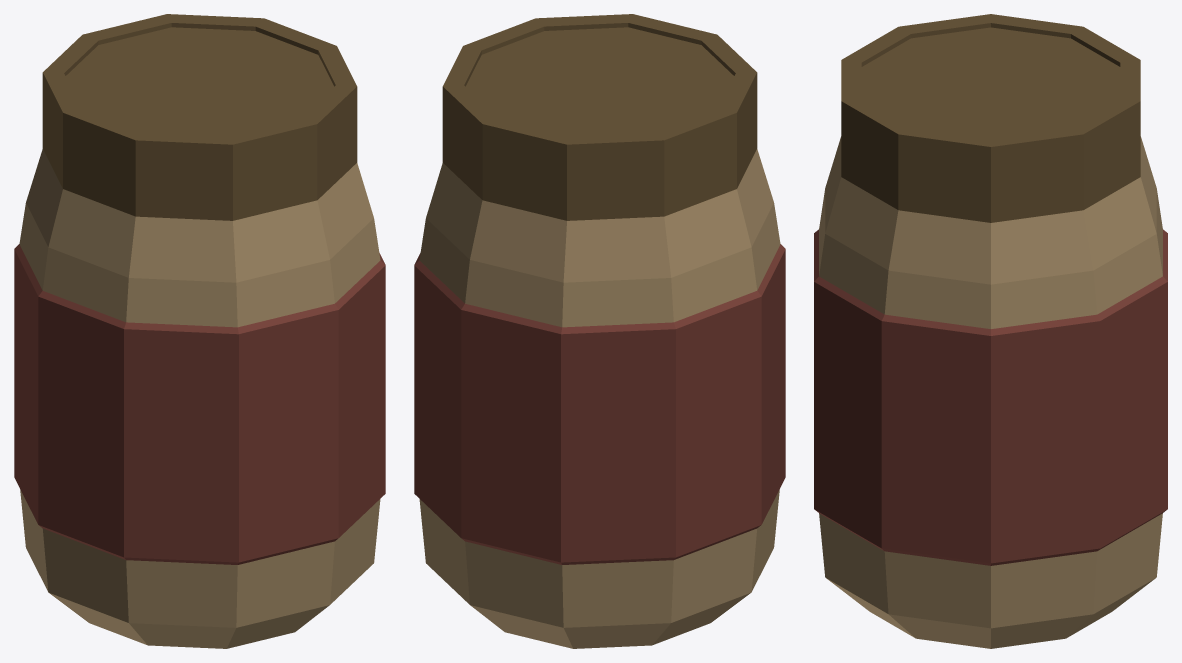
File: PeanutButter.glb
3 renders of one model, left to right at view 1: azimuth 30°, elevation 25°; view 2: azimuth 150°, elevation 25°; view 3: azimuth 270°, elevation 25°, orthographic.
Visible parts, largest first — view 1: PeanutButter; view 2: PeanutButter; view 3: PeanutButter.
Part boxes in pixels (box(x1,y1,x2,y2)): PeanutButter: box(14, 14, 385, 648); PeanutButter: box(414, 14, 785, 648); PeanutButter: box(814, 14, 1167, 648).
Bounding box in the file's own units: 0.0522 × 0.0797 × 0.0497.
